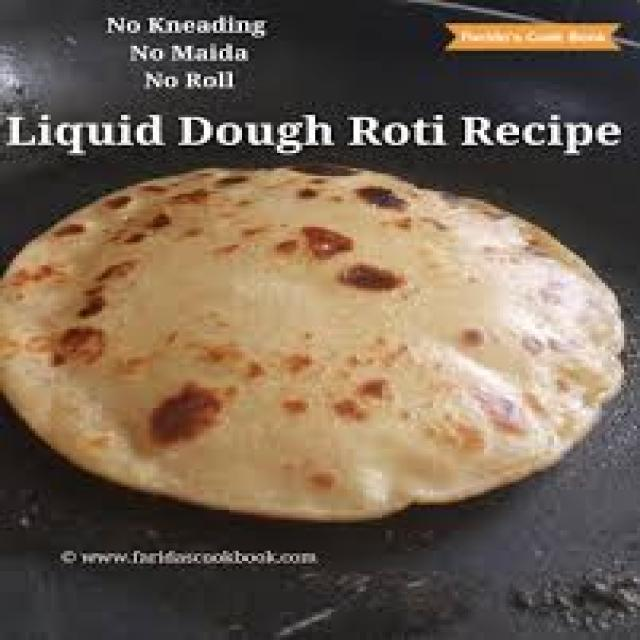ROTI: (0, 168, 624, 521)
